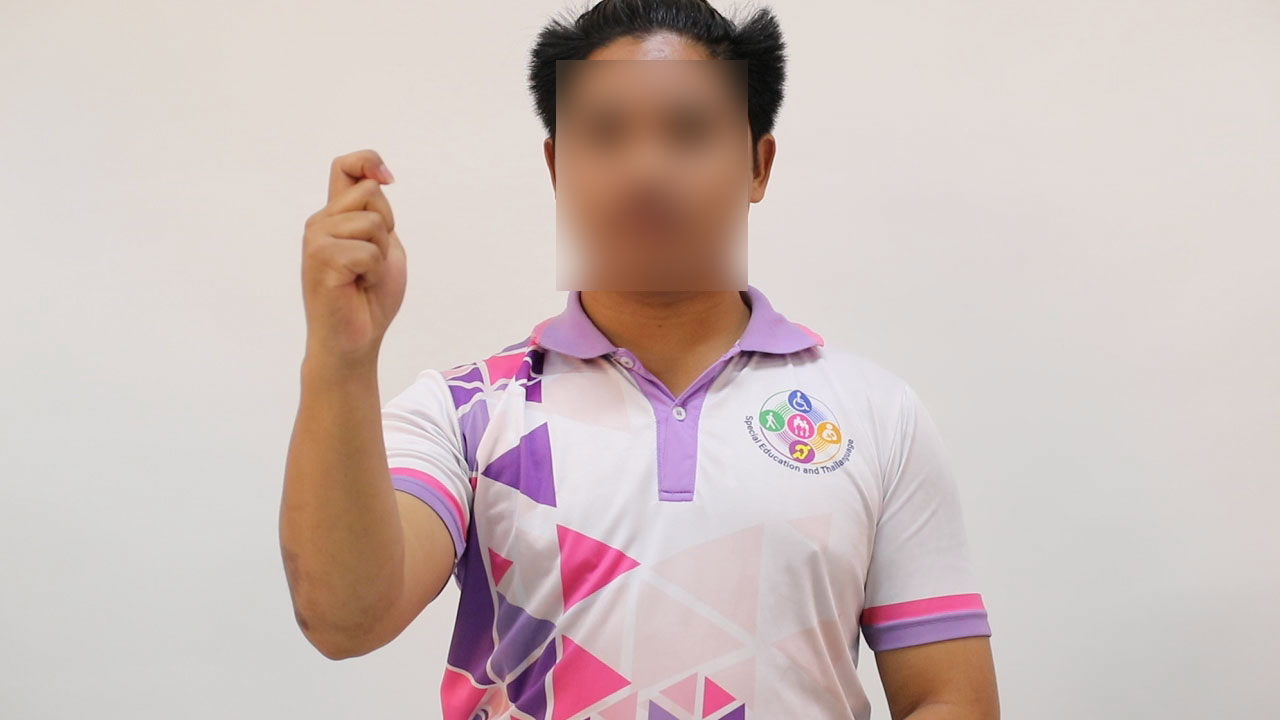or: (296, 139, 419, 377)
